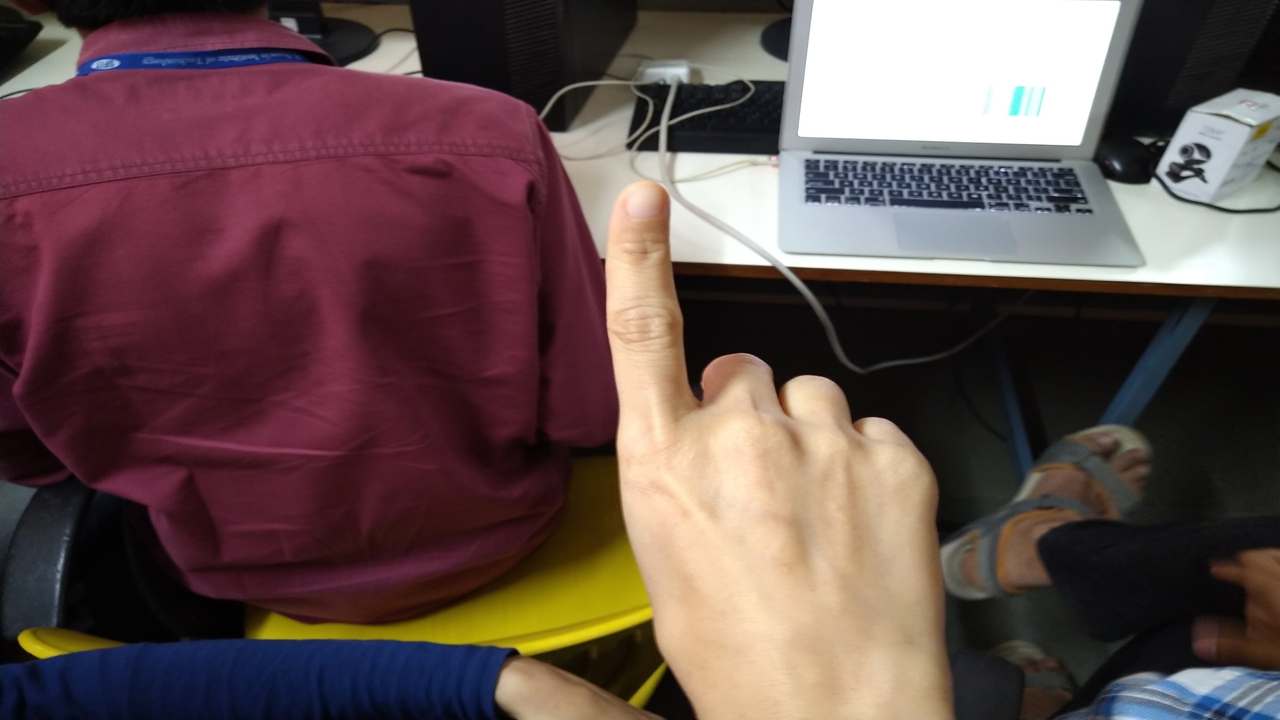fingertip: (608, 172, 674, 236)
